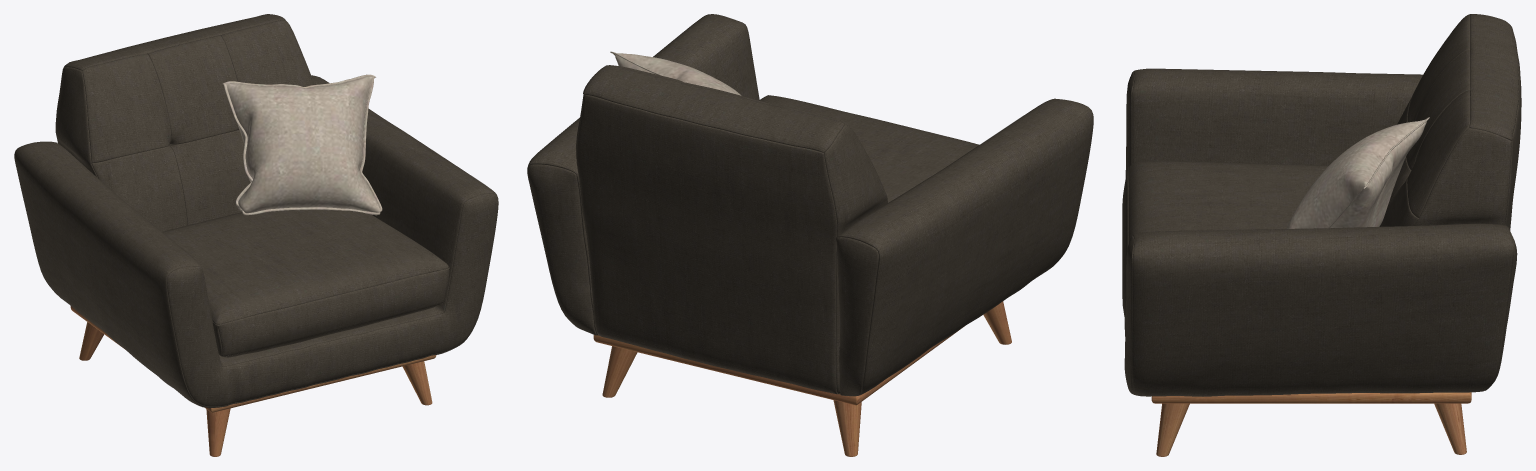
The model's file is SofaChair.glb.
3 views of the same model, side by side, from view 1: azimuth 30°, elevation 25°; view 2: azimuth 150°, elevation 25°; view 3: azimuth 270°, elevation 25° (orthographic). The views are drawn at different scales.
Visible parts, largest first — view 1: 7cgi_Joybird Hughes Chair01, 7cgi_Joybird Hughes Chair03, 7cgi_Joybird Hughes Chair02, 7cgi_Joybird Hughes Chair04, 7cgi_Joybird Hughes Chair00; view 2: 7cgi_Joybird Hughes Chair03, 7cgi_Joybird Hughes Chair01, 7cgi_Joybird Hughes Chair02, 7cgi_Joybird Hughes Chair00, 7cgi_Joybird Hughes Chair04; view 3: 7cgi_Joybird Hughes Chair01, 7cgi_Joybird Hughes Chair03, 7cgi_Joybird Hughes Chair02, 7cgi_Joybird Hughes Chair04, 7cgi_Joybird Hughes Chair00.
Part boxes in pixels (x1,y1,x2,y2): 7cgi_Joybird Hughes Chair01: (14, 75, 498, 407); 7cgi_Joybird Hughes Chair03: (55, 14, 314, 231); 7cgi_Joybird Hughes Chair02: (162, 210, 449, 357); 7cgi_Joybird Hughes Chair04: (222, 74, 382, 215); 7cgi_Joybird Hughes Chair00: (70, 306, 436, 456); 7cgi_Joybird Hughes Chair03: (576, 65, 887, 394); 7cgi_Joybird Hughes Chair01: (527, 14, 1093, 396); 7cgi_Joybird Hughes Chair02: (759, 95, 979, 202); 7cgi_Joybird Hughes Chair00: (593, 301, 1011, 456); 7cgi_Joybird Hughes Chair04: (610, 51, 741, 95); 7cgi_Joybird Hughes Chair01: (1124, 68, 1517, 396); 7cgi_Joybird Hughes Chair03: (1379, 14, 1521, 230); 7cgi_Joybird Hughes Chair02: (1122, 161, 1328, 321); 7cgi_Joybird Hughes Chair04: (1286, 117, 1429, 228); 7cgi_Joybird Hughes Chair00: (1151, 392, 1471, 456).
Bounding box in the file's own units: 1.5 × 1.22 × 1.35.
3 materials, 3 textured.
